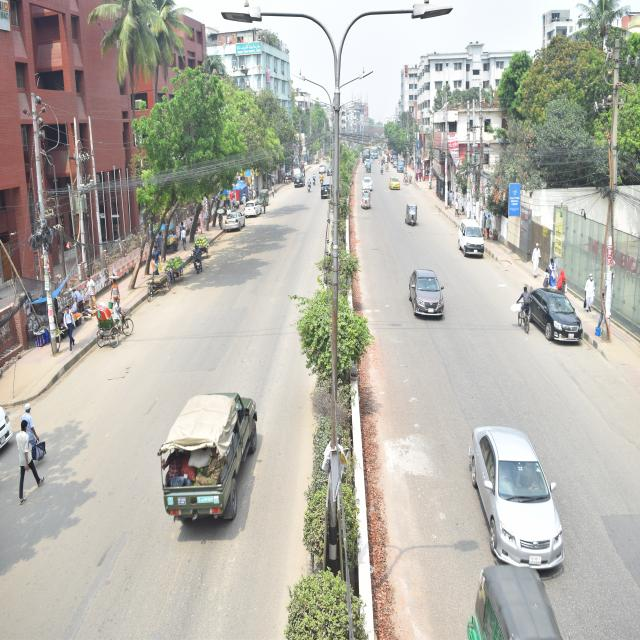car: (443, 403, 593, 585), (519, 270, 611, 372), (404, 237, 459, 352), (445, 209, 497, 273), (0, 394, 17, 458), (220, 204, 250, 237), (313, 175, 338, 213), (238, 190, 260, 225), (390, 171, 410, 206), (360, 168, 378, 198), (292, 166, 306, 198)
motorbike: (308, 172, 314, 204)
pickup-van: (139, 347, 297, 534)
truck: (362, 142, 372, 174)
